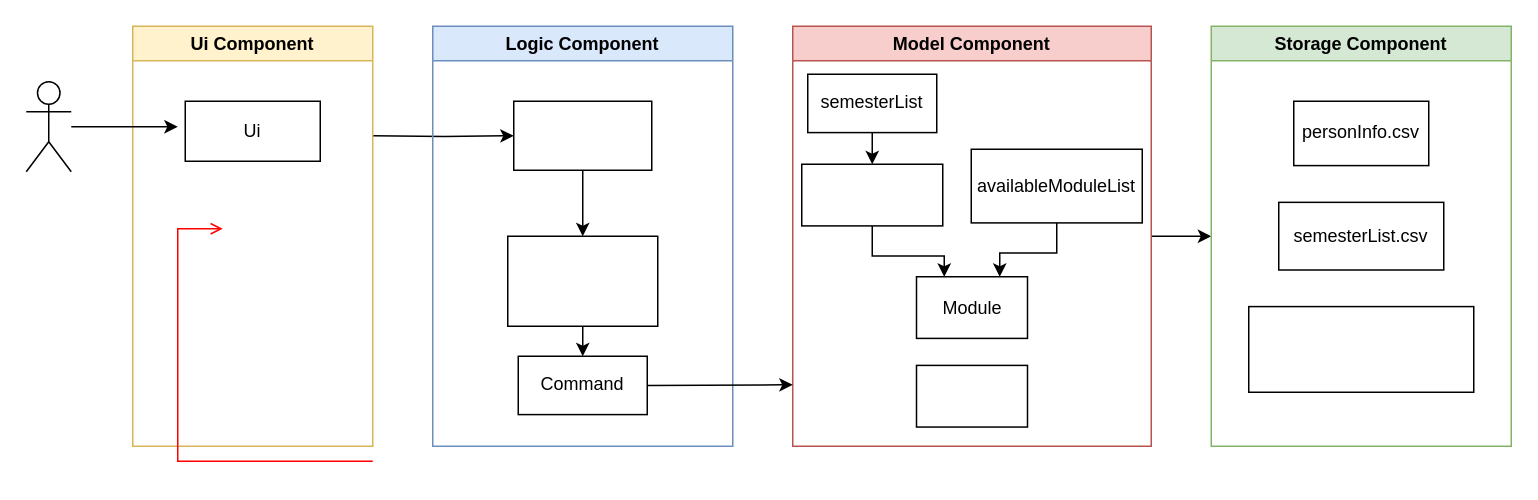
The diagram is 1538 pixels wide and 500 high, and some of its shapes have lost their labels. The shapes that lost their labels are listed below. From the top down, each one's centre as x and y in pixels, then its label:
At (48,126): "User".
At (582,135): "Parser".
At (871,194): "semModuleList".
At (582,280): "Controller".
At (1360,348): "availableModulesList.csv".
At (971,395): "Person".
